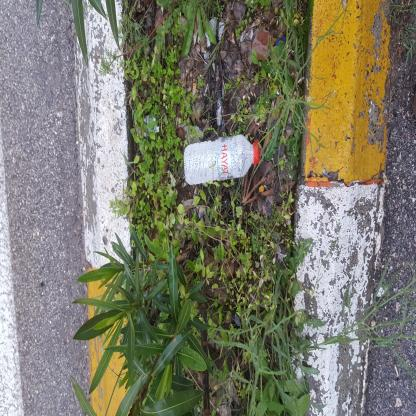trash: (125, 319, 164, 416)
